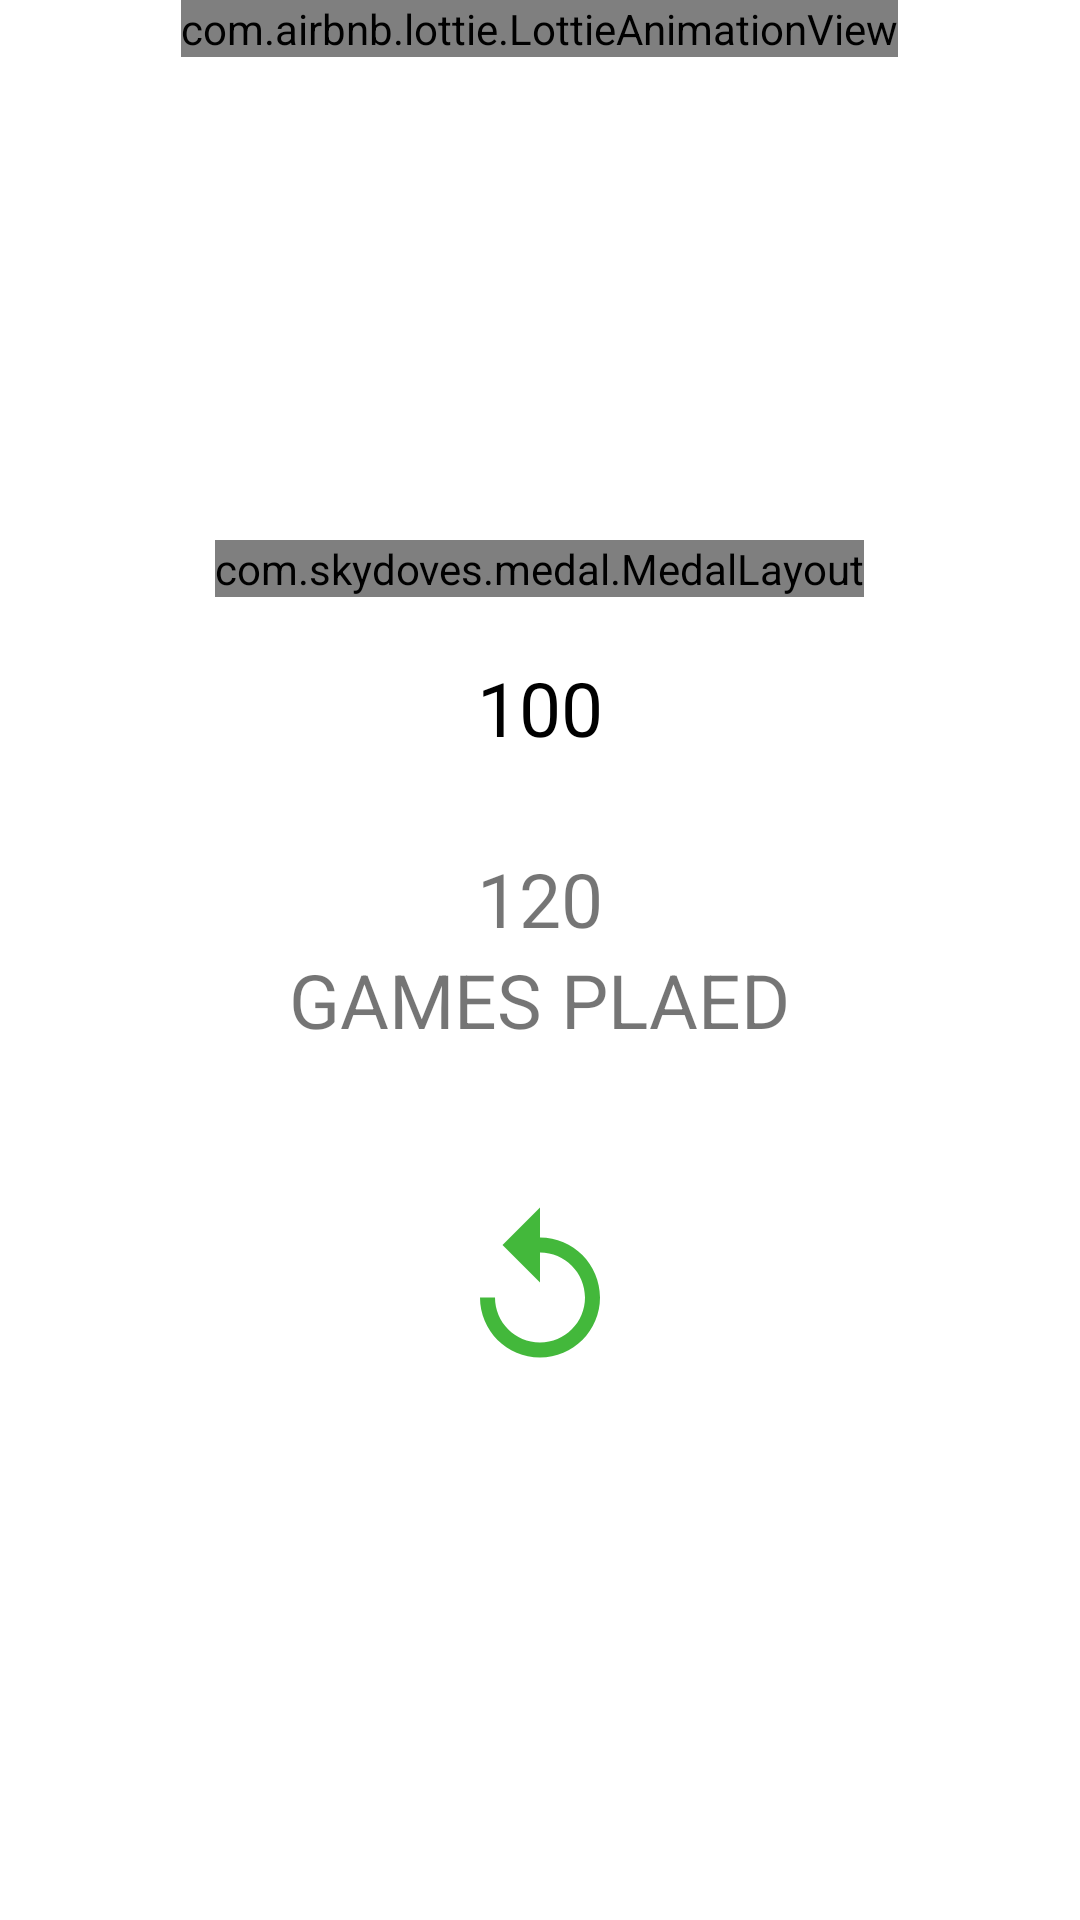

Screen size 1080px x 1920px. Icon name, then its center in pixels as [x,y]:
replay: [540,1283]
